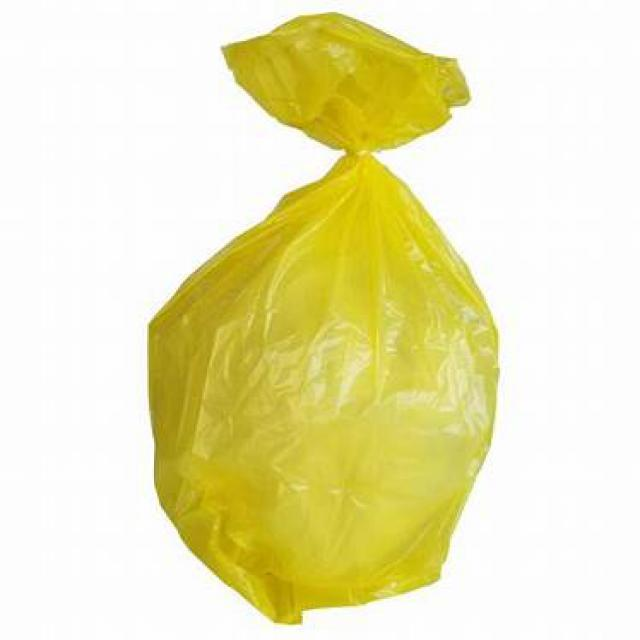waste: (140, 26, 489, 610)
